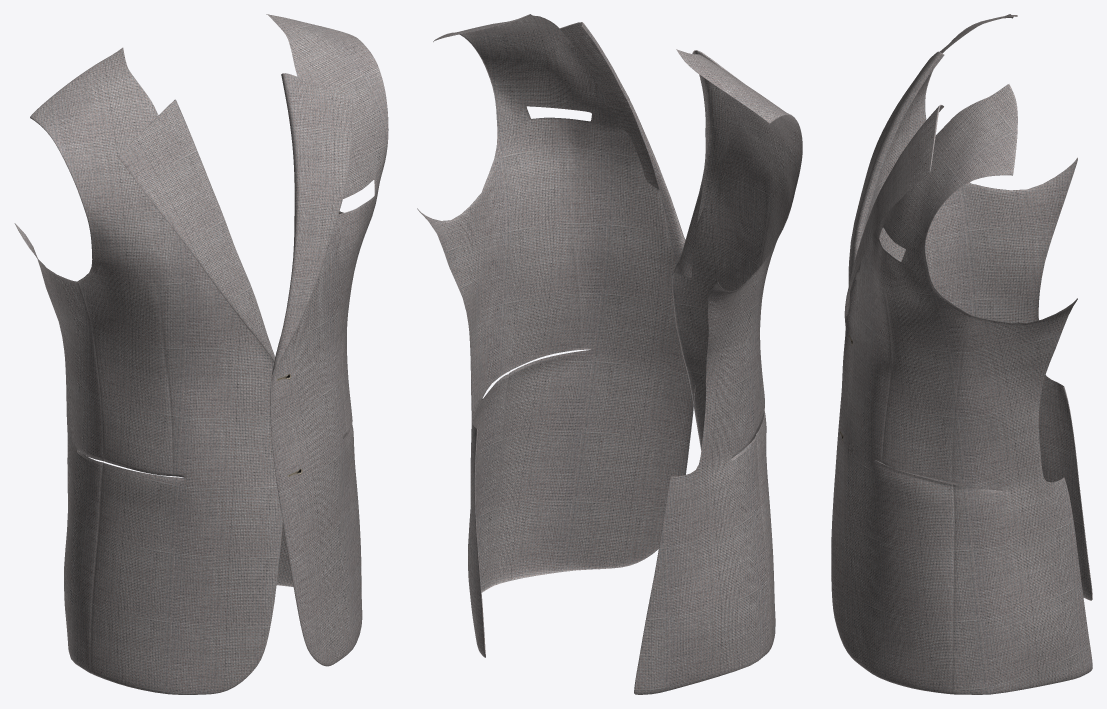
Rendered from notch_double_button.glb.
3 renders of one model, left to right at view 1: azimuth 30°, elevation 25°; view 2: azimuth 150°, elevation 25°; view 3: azimuth 270°, elevation 25°, orthographic. The views are drawn at different scales.
Visible parts, largest first — view 1: notch_double_button; view 2: notch_double_button; view 3: notch_double_button.
Part boxes in pixels (box(x1,y1,x2,y2)): notch_double_button: box(14, 14, 388, 694); notch_double_button: box(417, 14, 802, 694); notch_double_button: box(831, 14, 1092, 694).
Size of the model in its own units: 0.0585 by 0.102 by 0.0411.
Materials: 2 (2 with a texture image).
